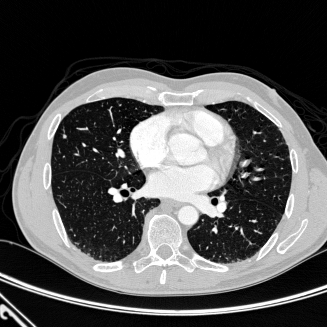nodule: (62, 134, 66, 138)
